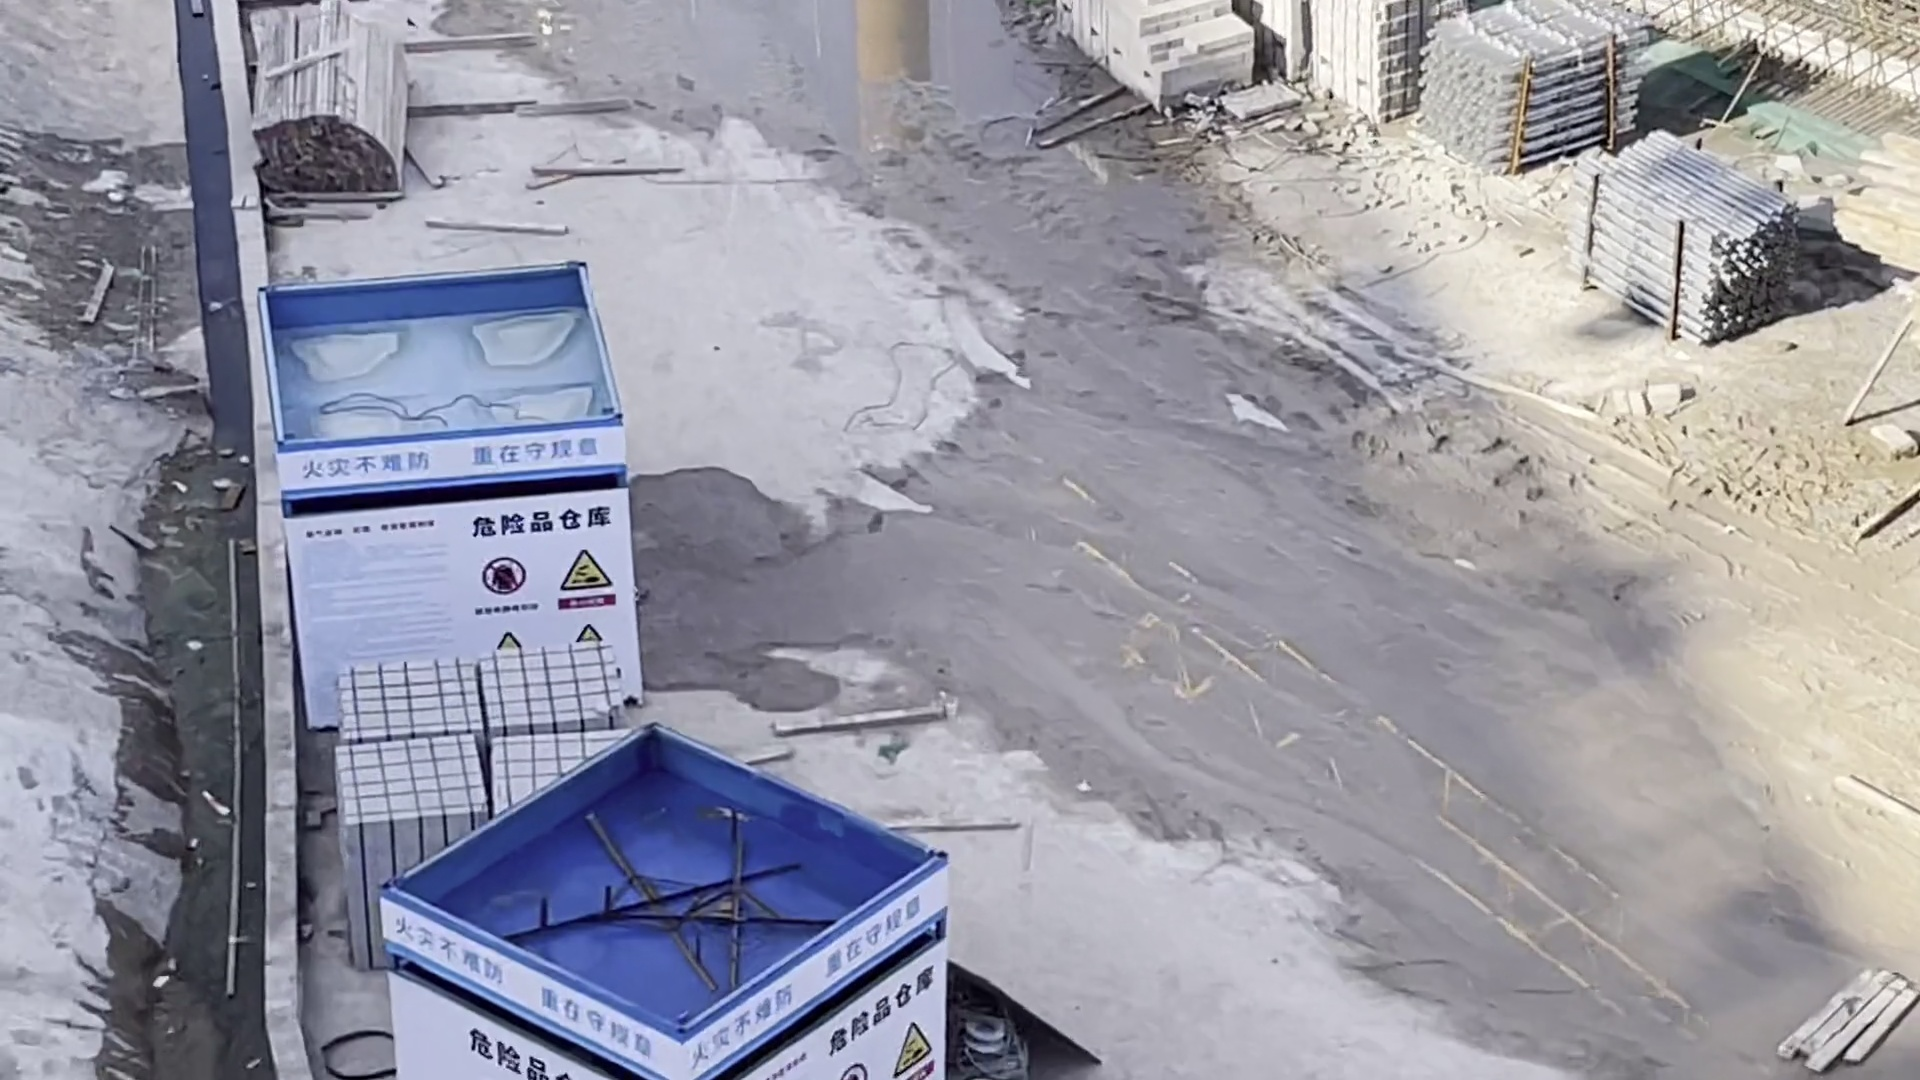brick: (334, 651, 621, 953), (1088, 1, 1441, 102)
scaffold: (1580, 162, 1803, 320), (1437, 11, 1655, 162)
slogan: (678, 858, 965, 1029), (373, 895, 663, 1058), (316, 427, 609, 473)
